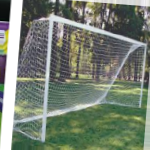goals: (16, 12, 147, 144)
